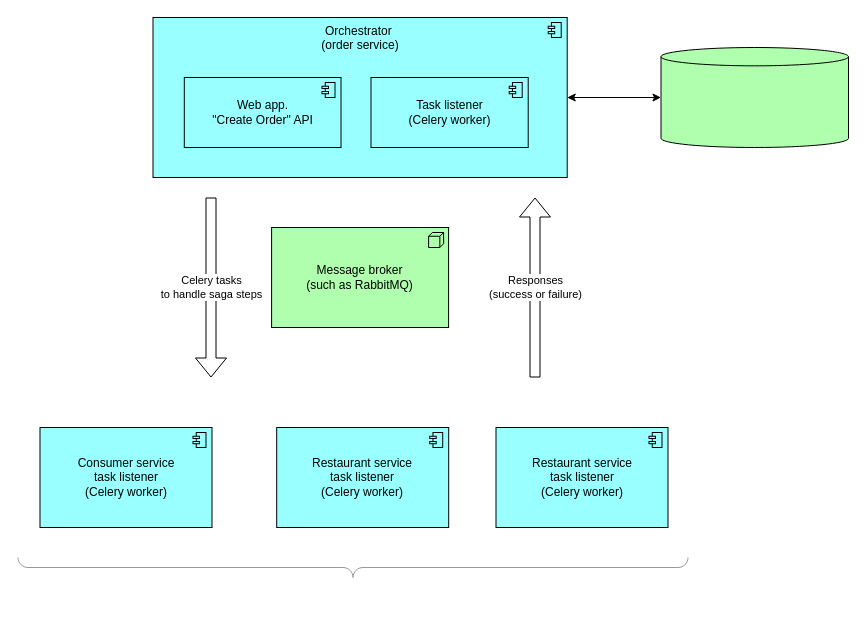
This 866x635 diagram has some shape labels left out. The shapes that lost their labels are listed below. From the top down, each one's centre as x and y in pixels, then its label:
At (754,97): "Order service database (includes SagaState table)".
At (352,567): "Saga Step Handlers".
